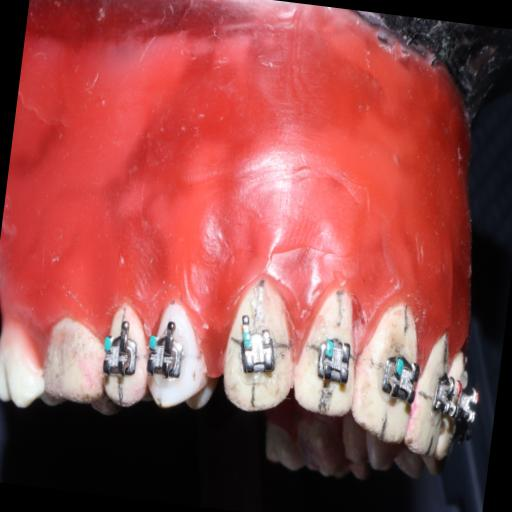incorrect_brace: (288, 292, 366, 418), (237, 323, 279, 377), (313, 335, 355, 384)
